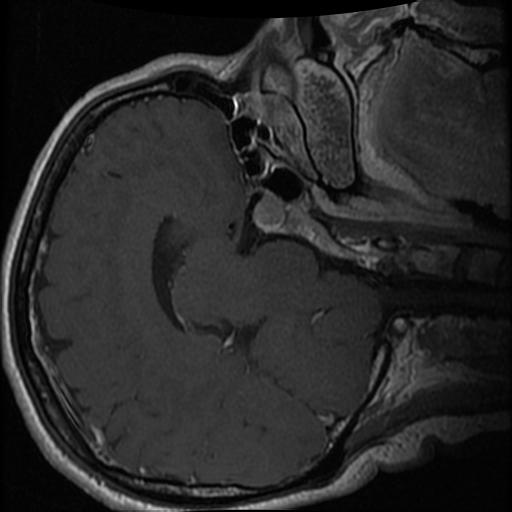pituitary tumour: (253, 188, 287, 233)
